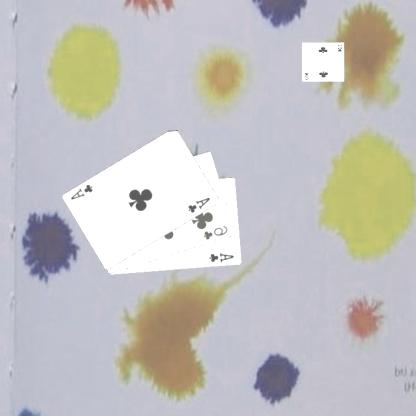6C: (203, 223, 231, 241)
AC: (70, 181, 96, 202), (188, 194, 214, 214), (209, 250, 237, 264)
